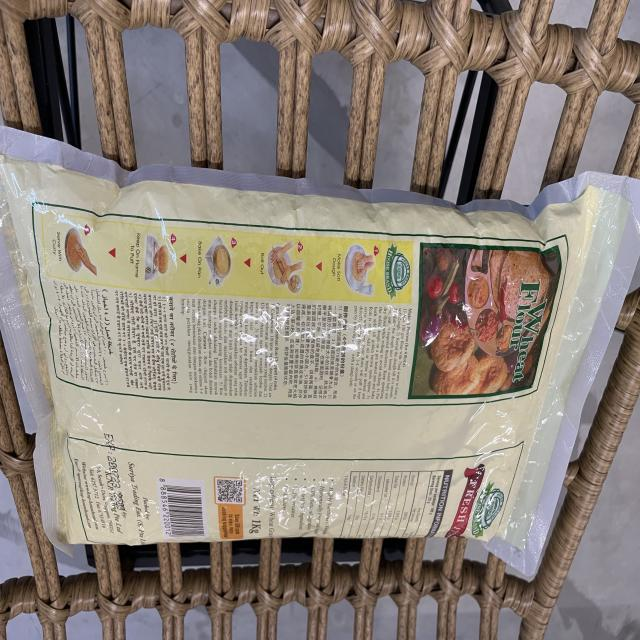object_name: (12, 169, 566, 541)
